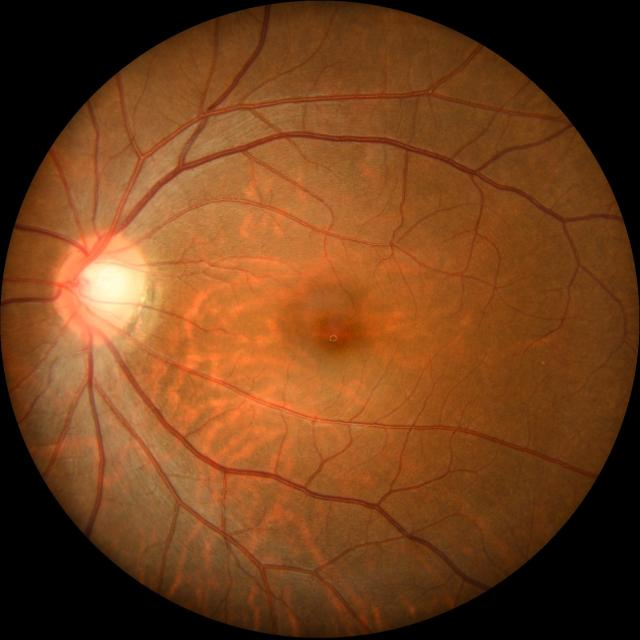OC: (75, 258, 130, 314)
OD: (56, 232, 145, 342)
